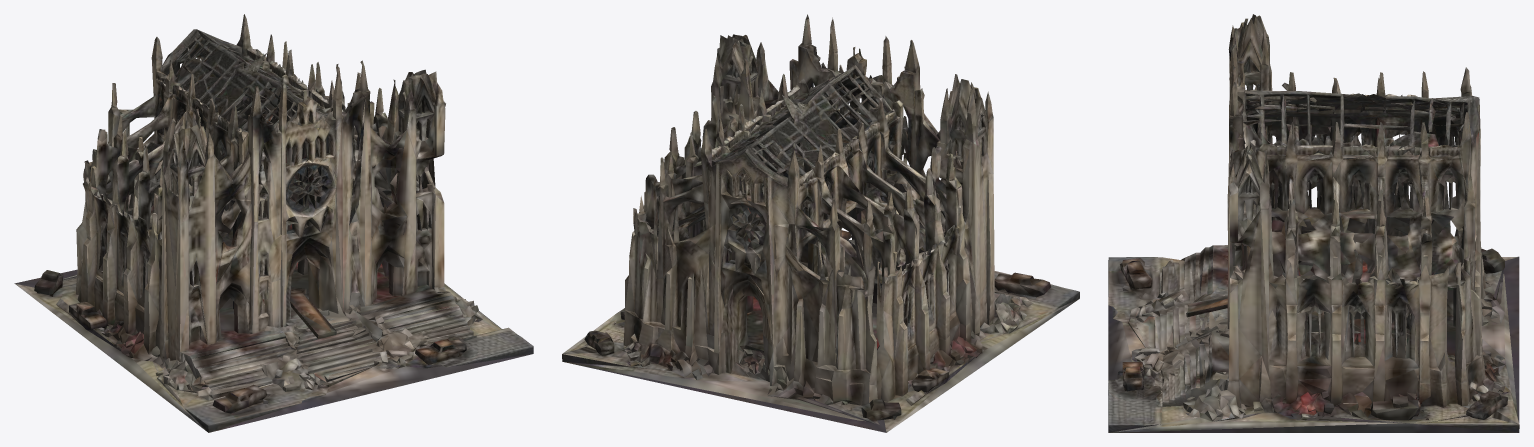
The model's file is cattedrale_dev.glb.
3 renders of one model, left to right at view 1: azimuth 30°, elevation 25°; view 2: azimuth 150°, elevation 25°; view 3: azimuth 270°, elevation 25°, orthographic. The views are drawn at different scales.
Visible parts, largest first — view 1: output_unwrapped; view 2: output_unwrapped; view 3: output_unwrapped.
Boxes of the visible parts, <box> form: output_unwrapped: <box>14,14,533,432</box>; output_unwrapped: <box>562,14,1079,432</box>; output_unwrapped: <box>1108,14,1519,432</box>.
Size of the model in its own units: 1.84 by 1.51 by 1.9.
1 material, 1 textured.
